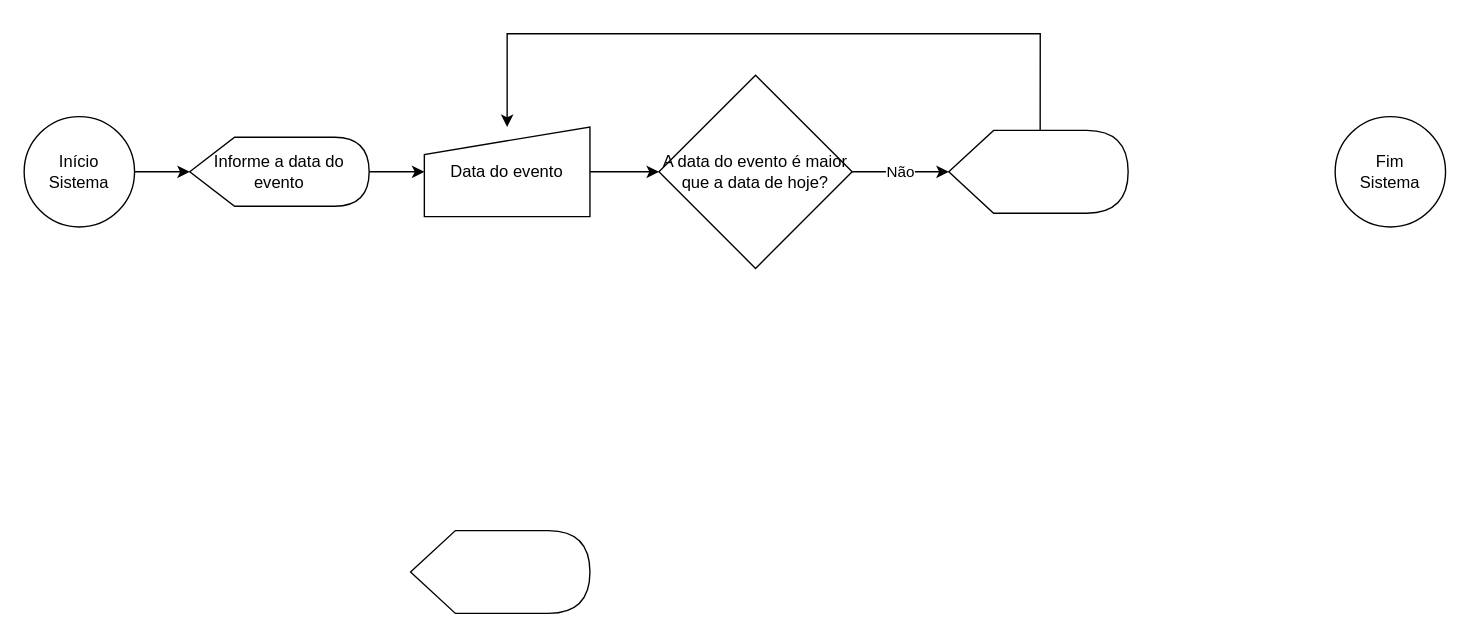
The diagram is 1470 pixels wide and 638 high, and some of its shapes have lost their labels. Each missing label, with the centre of its shape:
"A data do evento é inválida. Insira uma data no futuro:" belongs at pixel 1037 171.
"Listar participantes e palestrantes" belongs at pixel 499 571.
